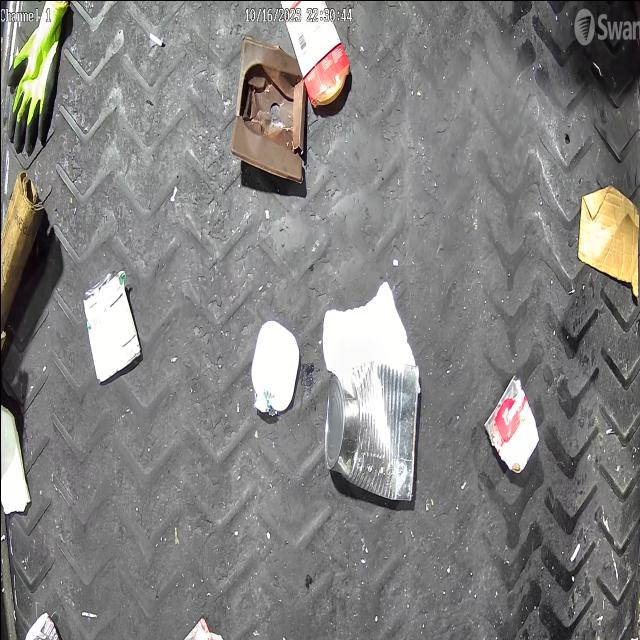can: (323, 360, 418, 500), (82, 267, 142, 385), (484, 374, 540, 474)
